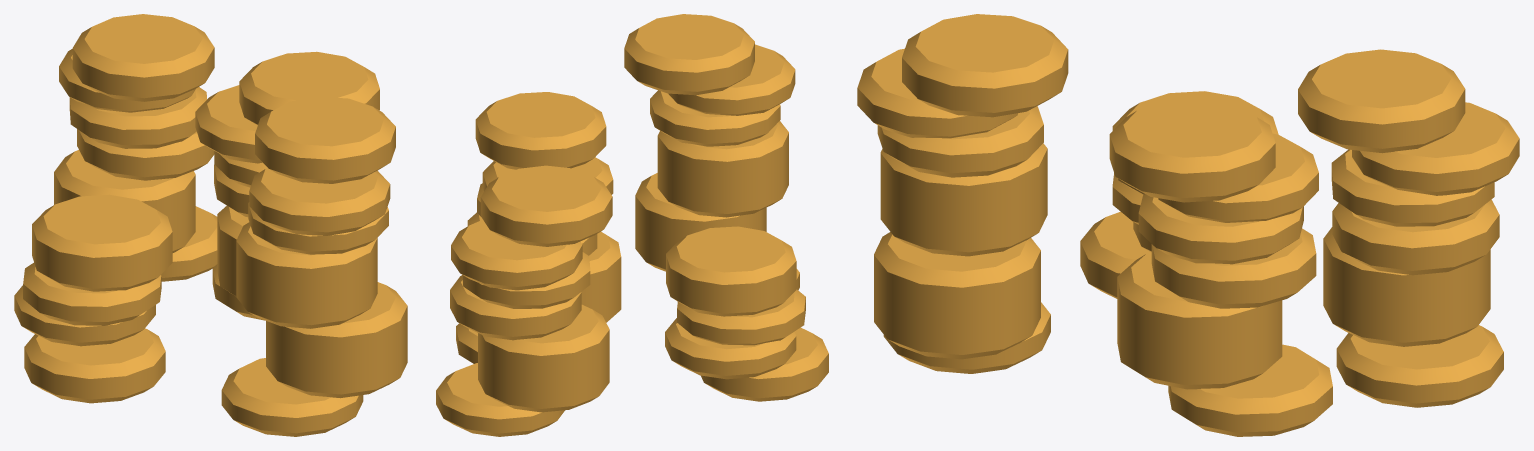
Rendered from quaternius-pirate-coins.glb.
3 views of the same model, side by side, from view 1: azimuth 30°, elevation 25°; view 2: azimuth 150°, elevation 25°; view 3: azimuth 270°, elevation 25° (orthographic). The views are drawn at different scales.
Parts seen in each view (by area): view 1: Prop_Coins; view 2: Prop_Coins; view 3: Prop_Coins.
Part boxes in pixels (box(x1,y1,x2,y2)): Prop_Coins: box(14, 14, 407, 436); Prop_Coins: box(436, 14, 828, 436); Prop_Coins: box(857, 14, 1519, 436).
Size of the model in its own units: 0.4567 by 0.3439 by 0.6354.
1 material, 1 textured.
